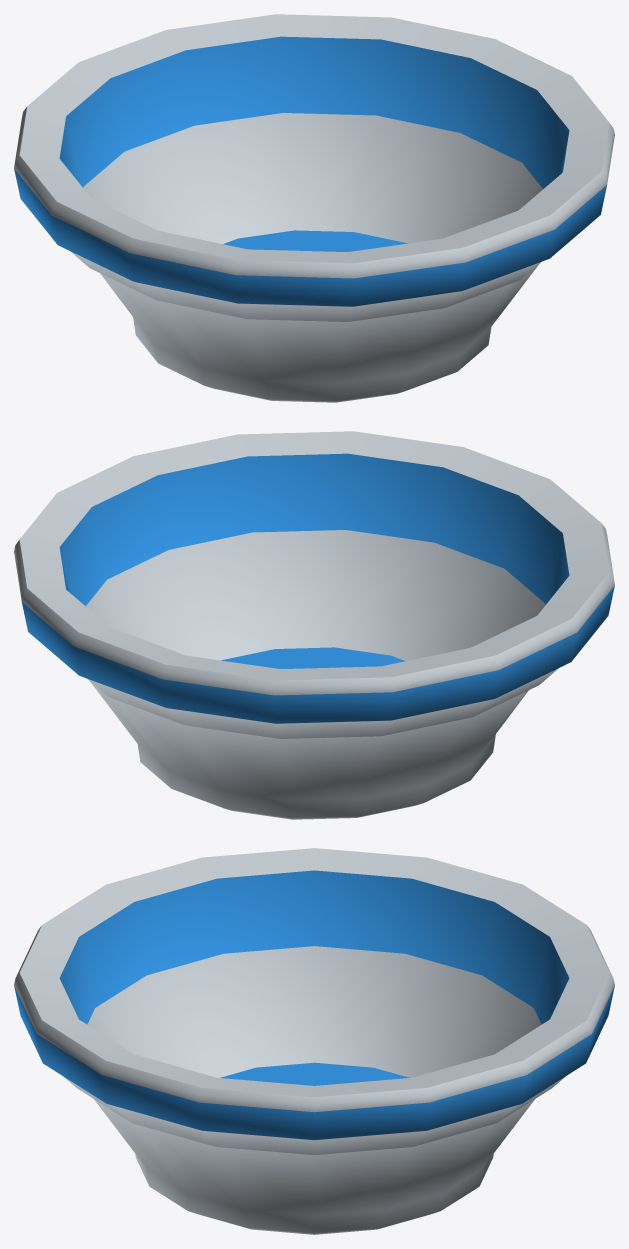
Rendered from Cuenco.fbx.
The picture shows the model from 3 angles, top to bottom: view 1: azimuth 30°, elevation 25°; view 2: azimuth 150°, elevation 25°; view 3: azimuth 270°, elevation 25°; orthographic projection.
Visible parts, largest first — view 1: Object007; view 2: Object007; view 3: Object007.
Boxes of the visible parts, left/top/right/bottom form: Object007: left=14, top=14, right=614, bottom=402; Object007: left=14, top=431, right=614, bottom=819; Object007: left=14, top=848, right=614, bottom=1234.
Bounding box in the file's own units: 34.16 × 12.3 × 34.16.
